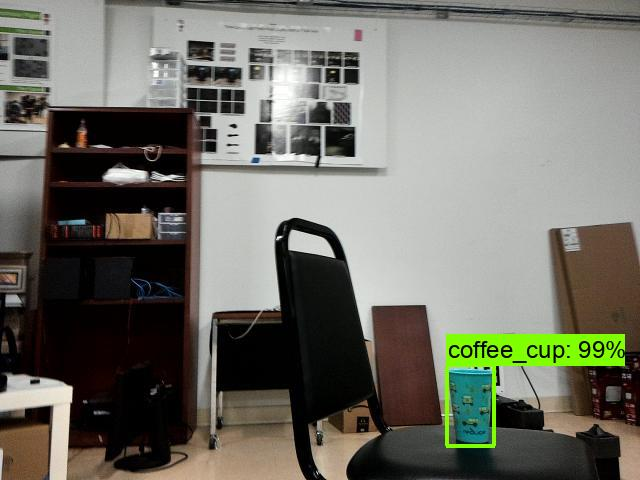coffee_cup: (446, 366, 495, 444)
